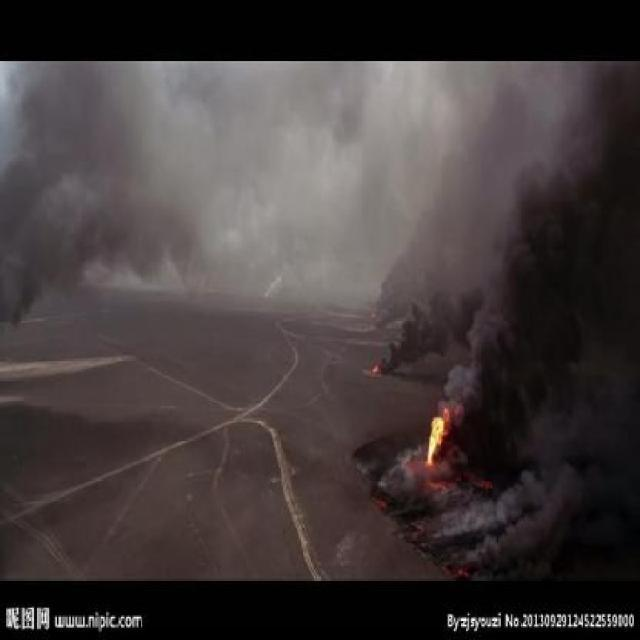Fire: (424, 397, 462, 468), (371, 355, 378, 377), (368, 305, 374, 321)
Smoke: (450, 195, 615, 472), (16, 84, 204, 282), (376, 120, 510, 306), (465, 490, 607, 576), (390, 291, 490, 357)
